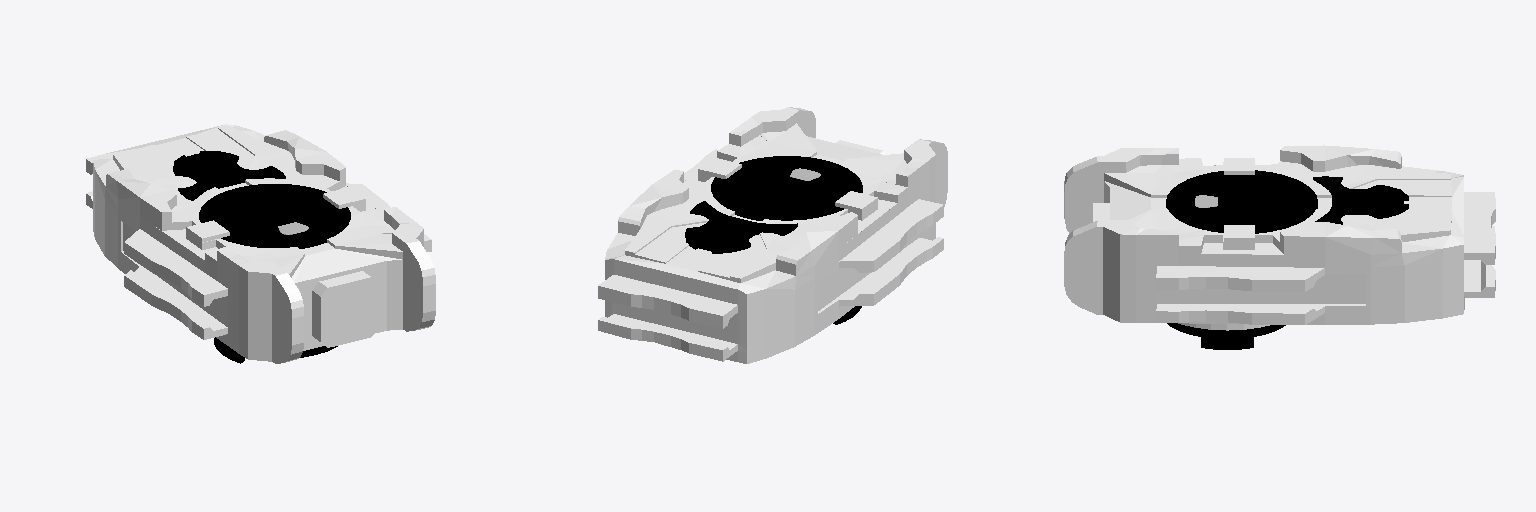
File: launcher_body.obj
3 views of the same model, side by side, from view 1: azimuth 30°, elevation 25°; view 2: azimuth 150°, elevation 25°; view 3: azimuth 270°, elevation 25° (orthographic).
Visible parts, largest first — view 1: Plane.002_Plane.004, Circle.001, Cube.001_Cube.004, Plane.003_Plane.001, Cube.005_Cube.001, Cube.004_Cube.001; view 2: Plane.002_Plane.004, Circle.001, Plane.003_Plane.001, Cube.005_Cube.001, Cube.004_Cube.001; view 3: Plane.002_Plane.004, Circle.001, Plane.003_Plane.001, Cylinder.003, Cube.004_Cube.001, Cube.005_Cube.001.
Part boxes in pixels (bbox=[...]): Plane.002_Plane.004: bbox=[86, 124, 435, 363]; Circle.001: bbox=[199, 184, 350, 248]; Cube.001_Cube.004: bbox=[312, 271, 377, 347]; Plane.003_Plane.001: bbox=[173, 151, 285, 200]; Cube.005_Cube.001: bbox=[186, 220, 229, 253]; Cube.004_Cube.001: bbox=[323, 187, 365, 208]; Plane.002_Plane.004: bbox=[598, 107, 947, 363]; Circle.001: bbox=[711, 156, 862, 220]; Plane.003_Plane.001: bbox=[685, 201, 797, 253]; Cube.005_Cube.001: bbox=[835, 191, 877, 231]; Cube.004_Cube.001: bbox=[698, 158, 741, 178]; Plane.002_Plane.004: bbox=[1064, 145, 1495, 324]; Circle.001: bbox=[1166, 170, 1317, 233]; Plane.003_Plane.001: bbox=[1313, 176, 1408, 224]; Cylinder.003: bbox=[1167, 323, 1285, 349]; Cube.004_Cube.001: bbox=[1224, 225, 1254, 254]; Cube.005_Cube.001: bbox=[1224, 158, 1254, 174].
Bounding box in the file's own units: 0.6371 × 0.335 × 1.